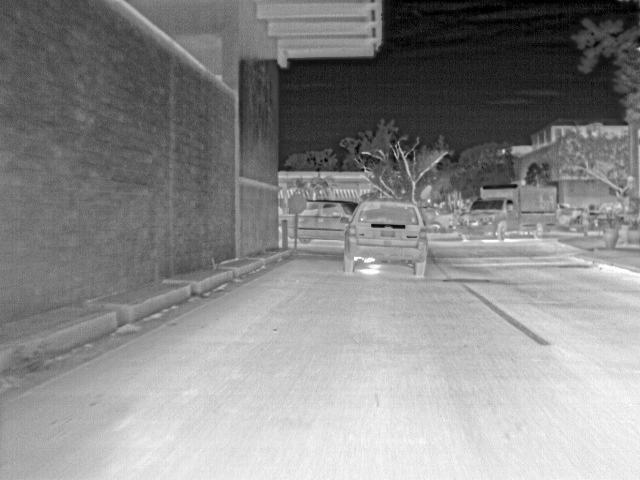car: (341, 198, 429, 277), (299, 199, 362, 243), (592, 212, 612, 230), (567, 212, 582, 232), (558, 208, 574, 225)
person: (581, 208, 591, 237)
